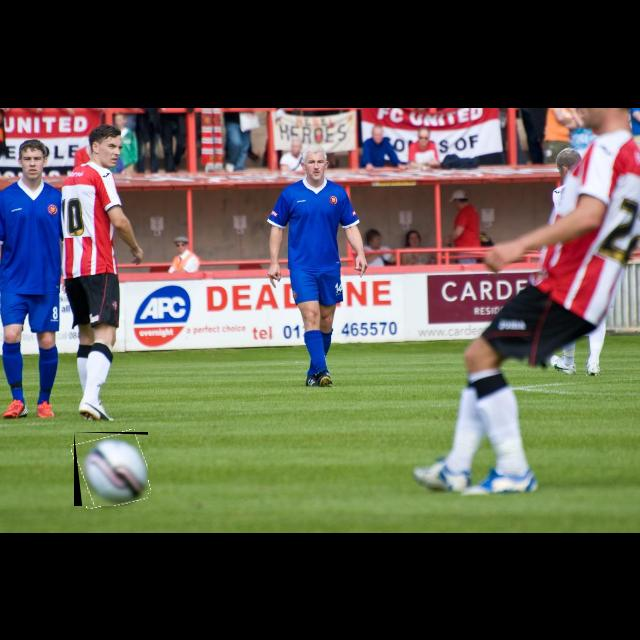Football: (74, 432, 148, 506)
